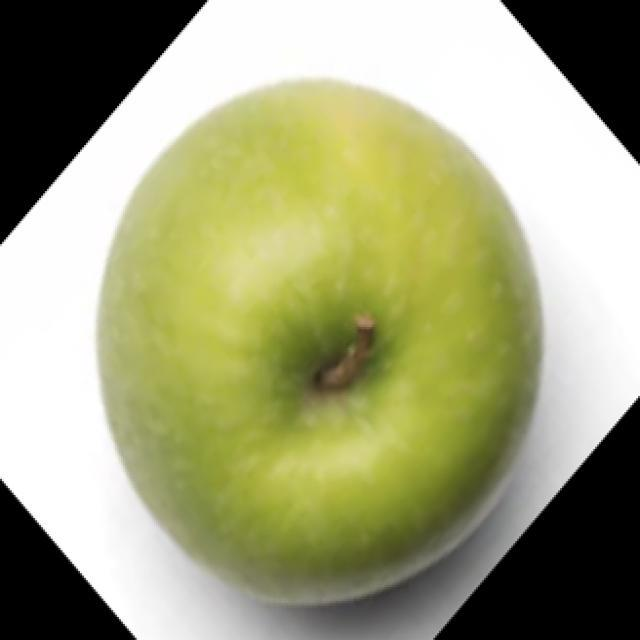Fresh Apple: (97, 75, 548, 611)
